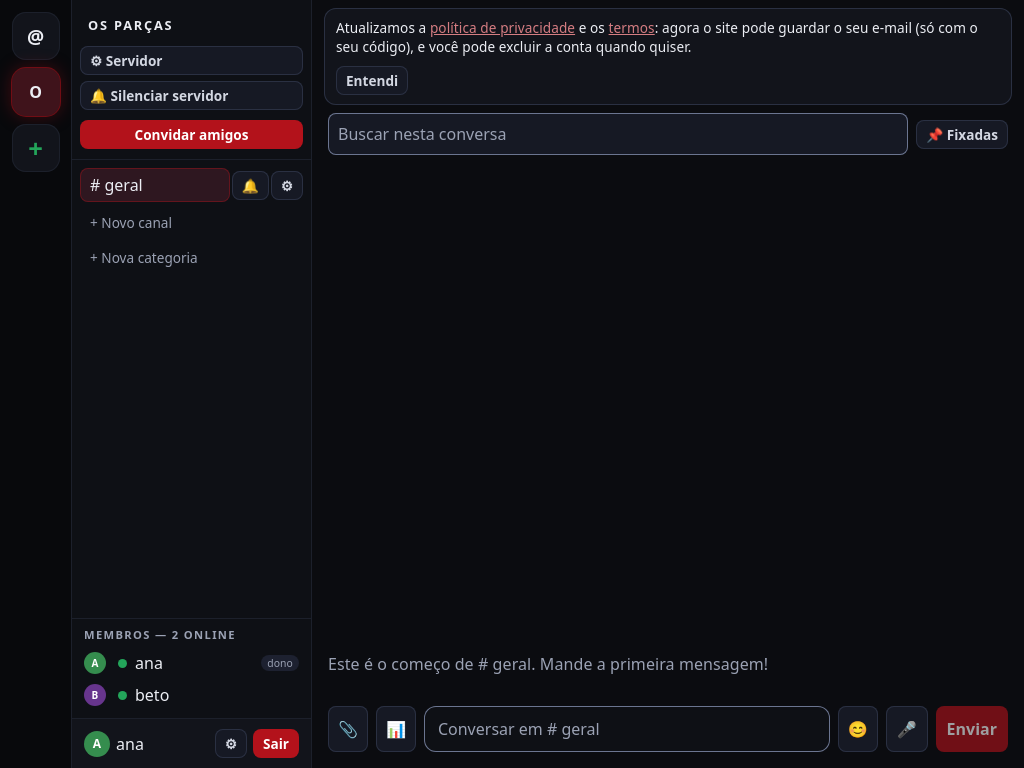
Test case: mensagens diretas › clicar no nome de um membro abre a conversa direta com ele
The width and height of the screenshot is (1024, 768).
Click the button with aria-label "Mensagem direta para beto". click: click(152, 695)
box: [135,684,169,706]
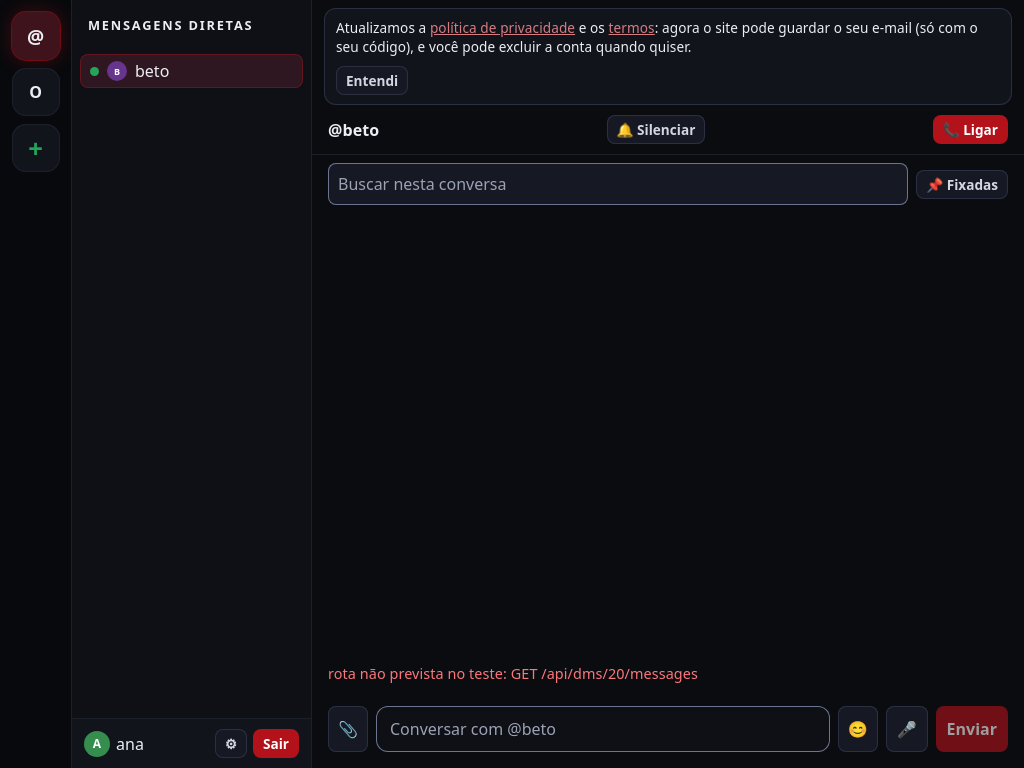
Now the field named "Mensagem para @beto" is shown, box [376,706,830,752]
Now the text "Mensagens diretas" is shown, box [88,16,253,34]
Now the button "B beto" is shown, box [80,54,303,88]
